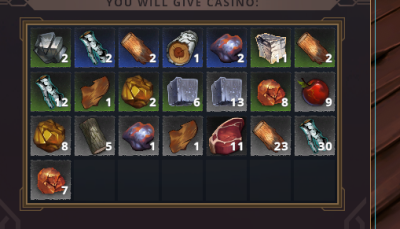ash log: (74, 116, 114, 156)
aurelium ore: (118, 71, 158, 111), (31, 116, 71, 156)
birch heartwood: (163, 28, 203, 68)
birch log: (74, 28, 114, 68), (31, 71, 71, 111), (295, 116, 335, 156)
copper ore: (30, 160, 70, 200), (251, 73, 290, 112)
durable hide: (74, 71, 115, 112), (162, 116, 203, 157)
granite stone: (162, 72, 202, 112), (208, 71, 248, 111)
iron ore: (117, 114, 159, 156), (207, 28, 247, 68)
limestone stone: (252, 28, 292, 68)
oak log: (118, 27, 159, 68), (294, 28, 334, 68), (251, 116, 291, 156)
silver ore: (30, 27, 71, 68)
